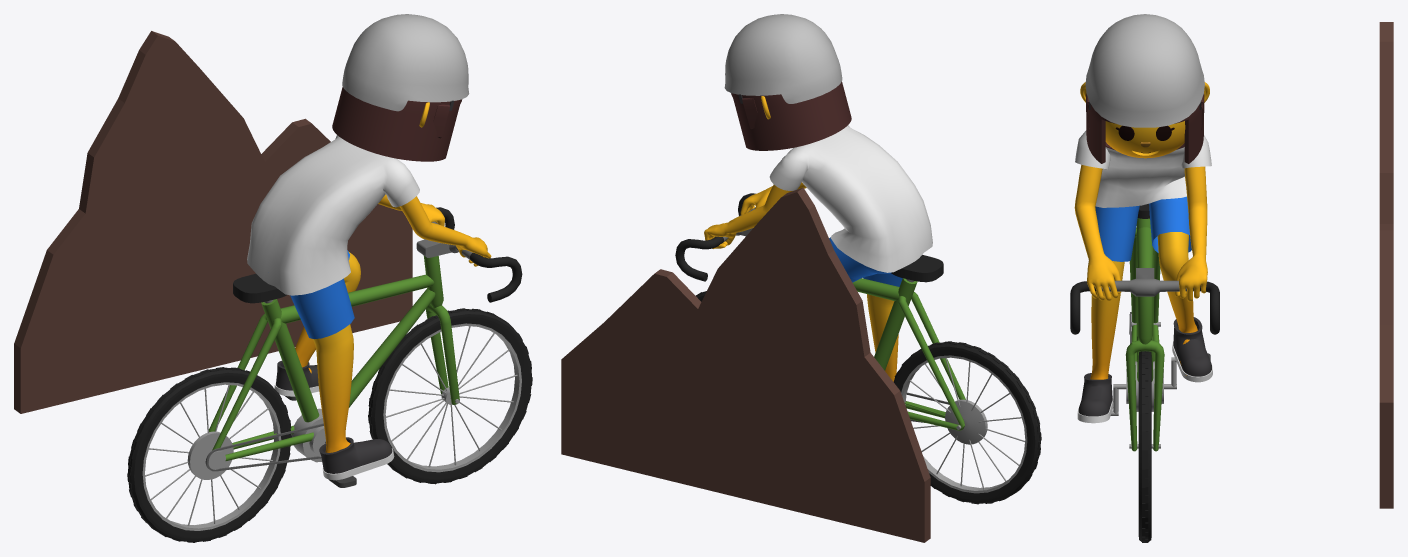
The model's file is woman_mountain_biking.gltf.
3 renders of one model, left to right at view 1: azimuth 30°, elevation 25°; view 2: azimuth 150°, elevation 25°; view 3: azimuth 270°, elevation 25°, orthographic. The views are drawn at different scales.
Visible parts, largest first — view 1: Plane.101, Circle.203, Circle.205, Cube.309, Roundcube.479, Sphere.452, Sphere.451; view 2: Plane.101, Circle.205, Circle.203, Cube.309, Roundcube.479; view 3: Circle.205, Cube.309, Circle.203, Plane.101, Roundcube.478, Roundcube.479, Sphere.451, Sphere.452, Circle.199.
Boxes of the visible parts, left/top/right/bottom form: Plane.101: left=14, top=31, right=412, bottom=413; Circle.203: left=127, top=207, right=532, bottom=542; Circle.205: left=247, top=135, right=491, bottom=452; Cube.309: left=342, top=14, right=469, bottom=111; Roundcube.479: left=332, top=87, right=462, bottom=161; Sphere.452: left=319, top=437, right=394, bottom=480; Sphere.451: left=274, top=360, right=319, bottom=396; Plane.101: left=561, top=187, right=930, bottom=542; Circle.205: left=704, top=125, right=932, bottom=381; Circle.203: left=675, top=193, right=1041, bottom=504; Cube.309: left=724, top=14, right=842, bottom=103; Roundcube.479: left=731, top=81, right=851, bottom=150; Circle.205: left=1074, top=130, right=1211, bottom=379; Cube.309: left=1085, top=14, right=1204, bottom=127; Circle.203: left=1070, top=203, right=1219, bottom=542; Plane.101: left=1379, top=22, right=1393, bottom=508; Roundcube.478: left=1105, top=121, right=1185, bottom=158; Roundcube.479: left=1086, top=102, right=1203, bottom=163; Sphere.451: left=1172, top=317, right=1212, bottom=382; Sphere.452: left=1077, top=373, right=1113, bottom=423; Circle.199: left=1118, top=125, right=1171, bottom=140.
Size of the model in its own units: 2.06 by 2.3 by 1.38.
Materials: 8 (2 with a texture image).
